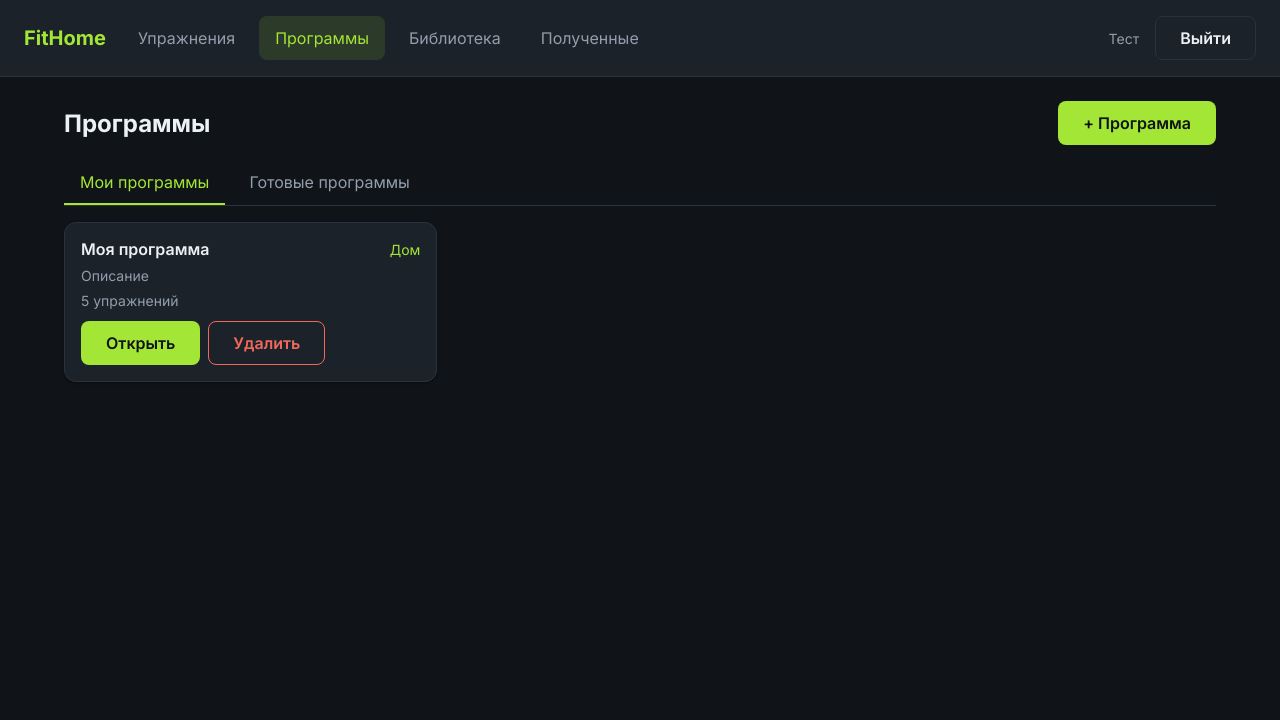
Test case: ProgramsPage — мои программы › удаление с подтверждением → DELETE
Expected: the heading "Моя программа" is shown, [81,239,209,259]
Click the button "Удалить".
click(267, 343)  # box [208,321,325,365]
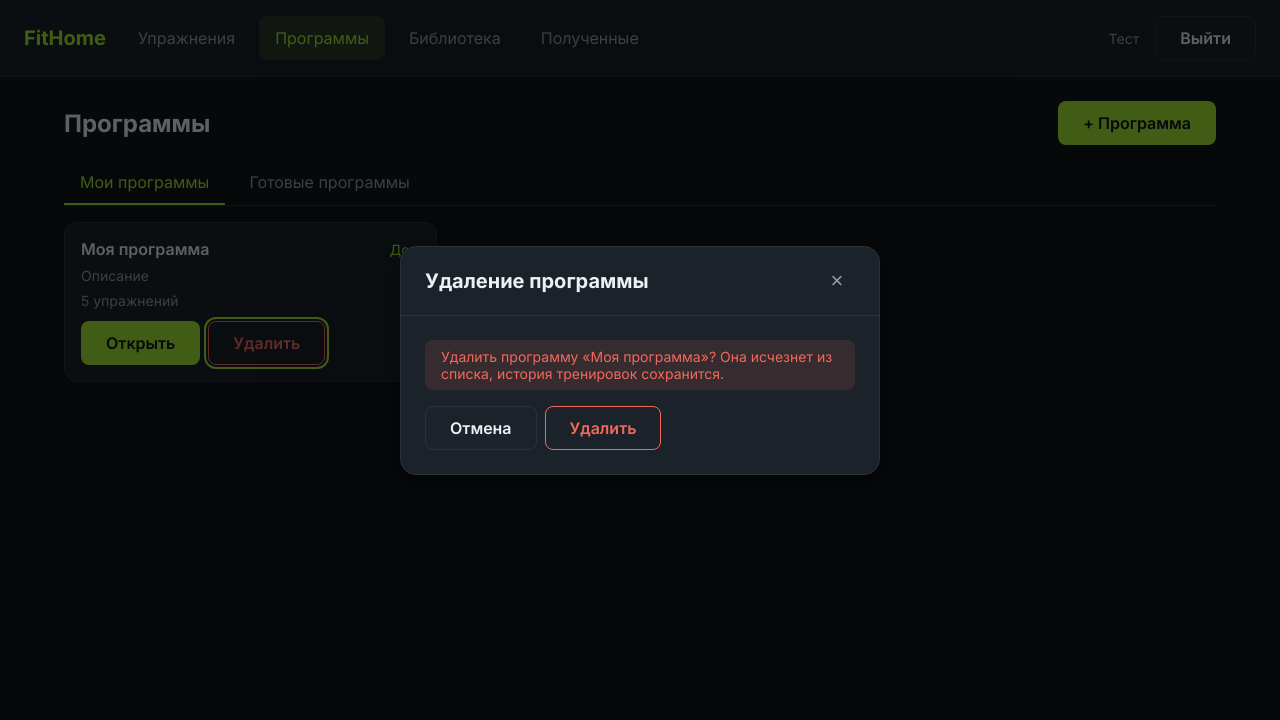
Expected: the text "Удалить программу «Моя программа»" is shown, [425,340,855,390]
Click the button "Удалить".
click(603, 428)  # box [545,406,662,450]
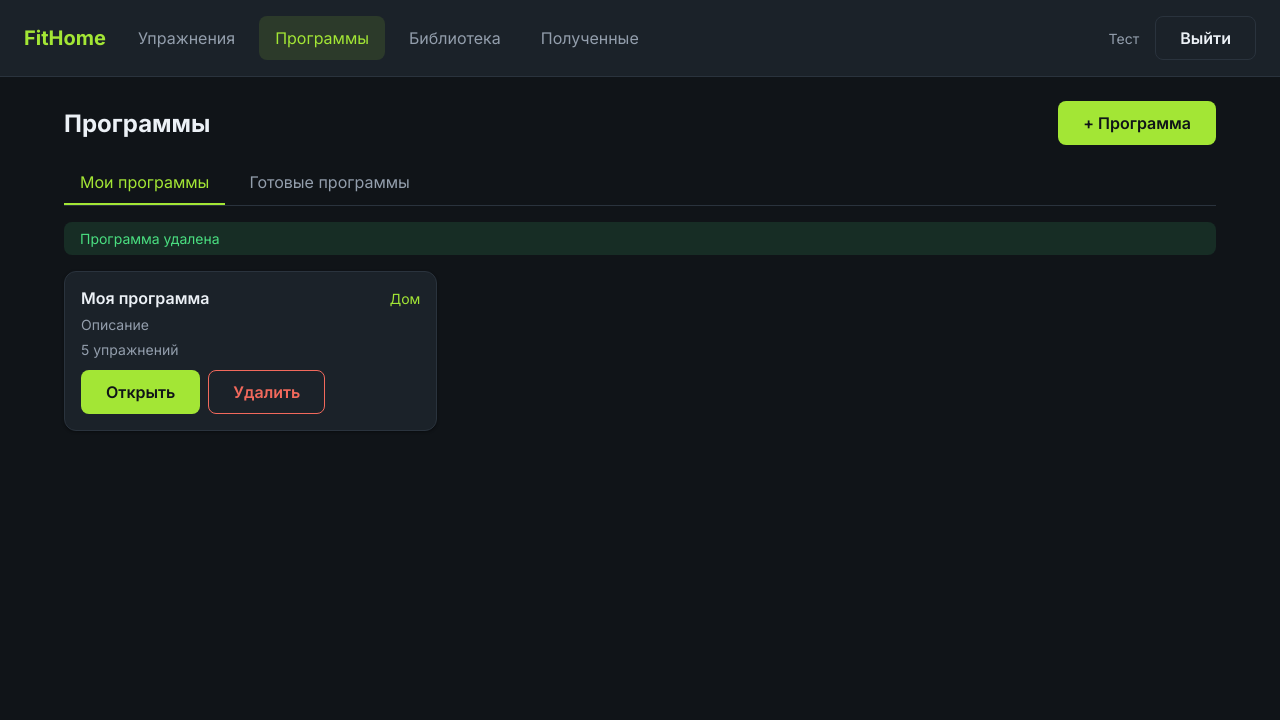
Expected: the text "Программа удалена" is shown, [64,222,1216,255]
